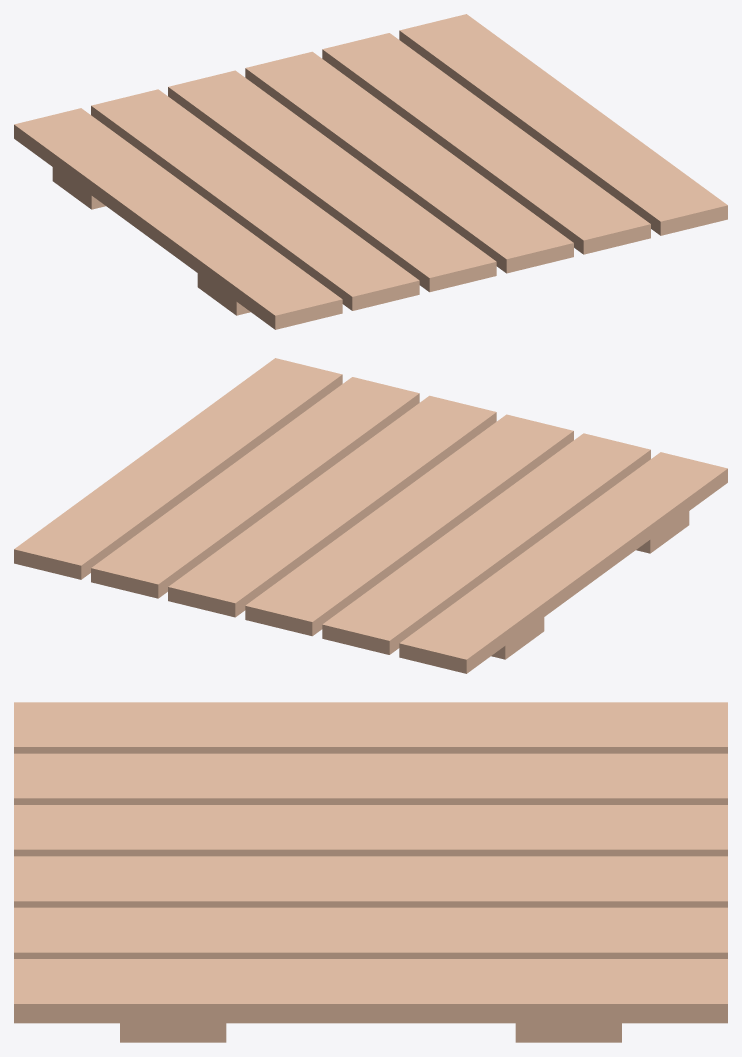
3 views of the same model, one above another, from view 1: azimuth 30°, elevation 25°; view 2: azimuth 150°, elevation 25°; view 3: azimuth 270°, elevation 25° (orthographic). The views are drawn at different scales.
Visible parts, largest first — view 1: planks; view 2: planks; view 3: planks.
Boxes of the visible parts, x1,y1,x2,y2 form: planks: [14, 14, 727, 329]; planks: [14, 358, 727, 673]; planks: [14, 702, 727, 1042].
Size of the model in its own units: 1 by 0.06 by 1.
